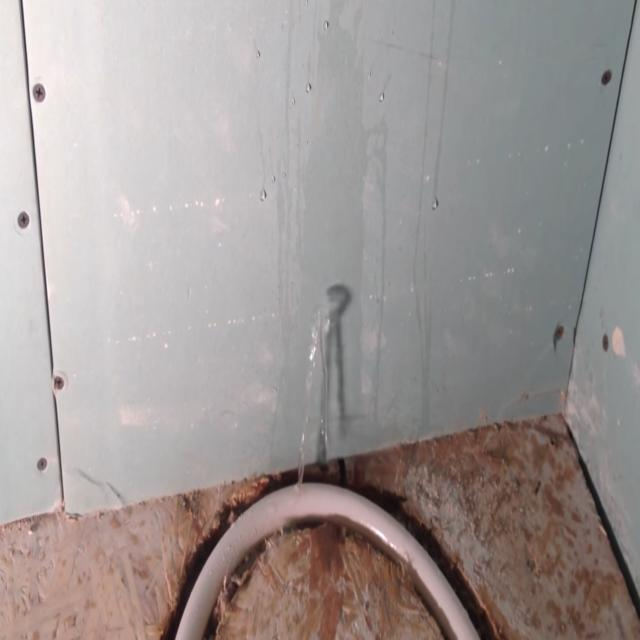leak: (298, 309, 330, 483)
